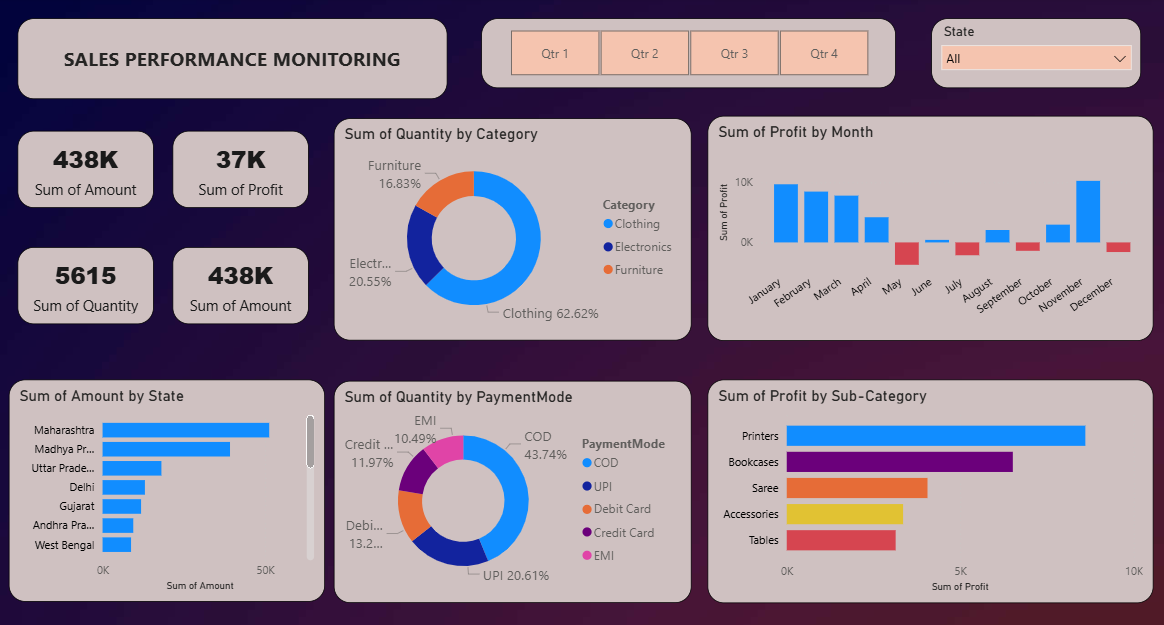

This screenshot's page, from the dashboard's own definition file:
{"tool":"powerbi","page":{"name":"Page 1","canvas":[1280,720],"ordinal":0},"visuals":[{"type":"textbox","box":[19.2,23.3,472,89.2],"z":0},{"type":"columnChart","fields":{"Category":["Orders.Order Date.Variation.Date Hierarchy.Month"],"Y":["Sum(Details.Profit)"]},"box":[776.7,130.4,489.9,247],"z":1000},{"type":"barChart","fields":{"Category":["Details.Sub-Category"],"Y":["Sum(Details.Profit)"]},"box":[776.7,419.9,489.9,245.6],"z":2000},{"type":"donutChart","fields":{"Category":["Details.Category"],"Y":["Sum(Details.Quantity)"]},"box":[366.4,133.1,392.5,244.3],"z":3000},{"type":"donutChart","fields":{"Category":["Details.PaymentMode"],"Y":["Sum(Details.Quantity)"]},"box":[366.4,421.3,392.5,244.3],"z":4000},{"type":"card","fields":{"Values":["Sum(Details.Amount)"]},"box":[19.2,146.8,149.6,85.1],"z":5000},{"type":"card","fields":{"Values":["Sum(Details.Profit)"]},"box":[189.4,146.8,149.6,85.1],"z":6000},{"type":"card","fields":{"Values":["Sum(Details.Quantity)"]},"box":[19.2,274.4,149.6,85.1],"z":7000},{"type":"card","fields":{"Values":["Sum(Details.Amount)"]},"box":[189.4,274.4,149.6,85.1],"z":8000},{"type":"barChart","fields":{"Category":["Orders.State"],"Y":["Sum(Details.Amount)"]},"box":[9.6,419.9,347.2,244.3],"z":9000},{"type":"slicer","fields":{"Values":["Orders.Order Date.Variation.Date Hierarchy.Quarter"]},"box":[528.3,23.3,455.6,76.8],"z":10000},{"type":"slicer","fields":{"Values":["Orders.State"]},"box":[1022.3,23.3,230.5,76.8],"z":11000}]}

Visuals, with their boxes in screenshot pixels (x1, y1, x2, y2):
textbox: (left=32, top=21, right=451, bottom=100)
columnChart - Orders.Order Date.Variation.Date Hierarchy.Month x Sum(Details.Profit): (left=704, top=116, right=1138, bottom=335)
barChart - Details.Sub-Category x Sum(Details.Profit): (left=704, top=372, right=1138, bottom=590)
donutChart - Details.Category x Sum(Details.Quantity): (left=340, top=118, right=688, bottom=335)
donutChart - Details.PaymentMode x Sum(Details.Quantity): (left=340, top=374, right=688, bottom=590)
card - Sum(Details.Amount): (left=32, top=130, right=165, bottom=206)
card - Sum(Details.Profit): (left=183, top=130, right=316, bottom=206)
card - Sum(Details.Quantity): (left=32, top=243, right=165, bottom=319)
card - Sum(Details.Amount): (left=183, top=243, right=316, bottom=319)
barChart - Orders.State x Sum(Details.Amount): (left=24, top=372, right=332, bottom=589)
slicer - Orders.Order Date.Variation.Date Hierarchy.Quarter: (left=484, top=21, right=888, bottom=89)
slicer - Orders.State: (left=922, top=21, right=1126, bottom=89)
